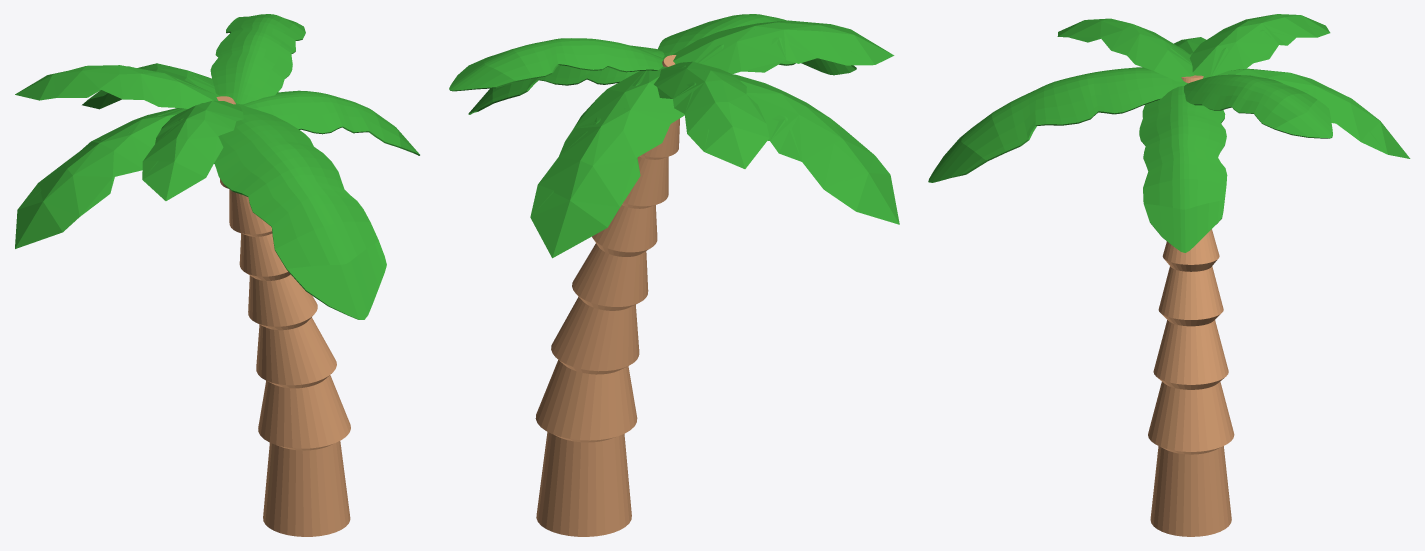
Rendered from Pohon kelapa.fbx.
3 views of the same model, side by side, from view 1: azimuth 30°, elevation 25°; view 2: azimuth 150°, elevation 25°; view 3: azimuth 270°, elevation 25° (orthographic). The views are drawn at different scales.
Visible parts, largest first — view 1: Cylinder; view 2: Cylinder; view 3: Cylinder.
Part boxes in pixels (left/top/right/bottom): Cylinder: left=15, top=14, right=419, bottom=536; Cylinder: left=449, top=14, right=899, bottom=536; Cylinder: left=928, top=14, right=1410, bottom=536.
Size of the model in its own units: 1023 by 1136 by 1152.
